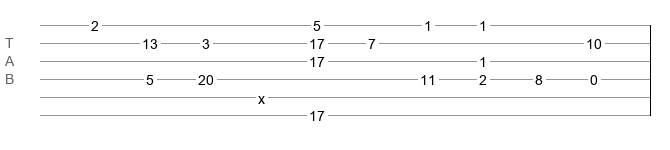0: (590, 72, 598, 82)
1: (424, 18, 432, 28), (479, 54, 487, 64), (479, 18, 487, 28)
10: (586, 36, 602, 46)
11: (420, 72, 436, 82)
13: (142, 36, 158, 46)
17: (309, 108, 325, 118), (309, 54, 325, 64), (309, 36, 325, 46)
2: (91, 18, 99, 28), (479, 72, 487, 82)
20: (198, 72, 214, 82)
3: (202, 36, 210, 46)
5: (146, 72, 154, 82), (313, 18, 321, 28)
7: (368, 36, 376, 46)
8: (535, 72, 543, 82)
x: (258, 91, 265, 99)
